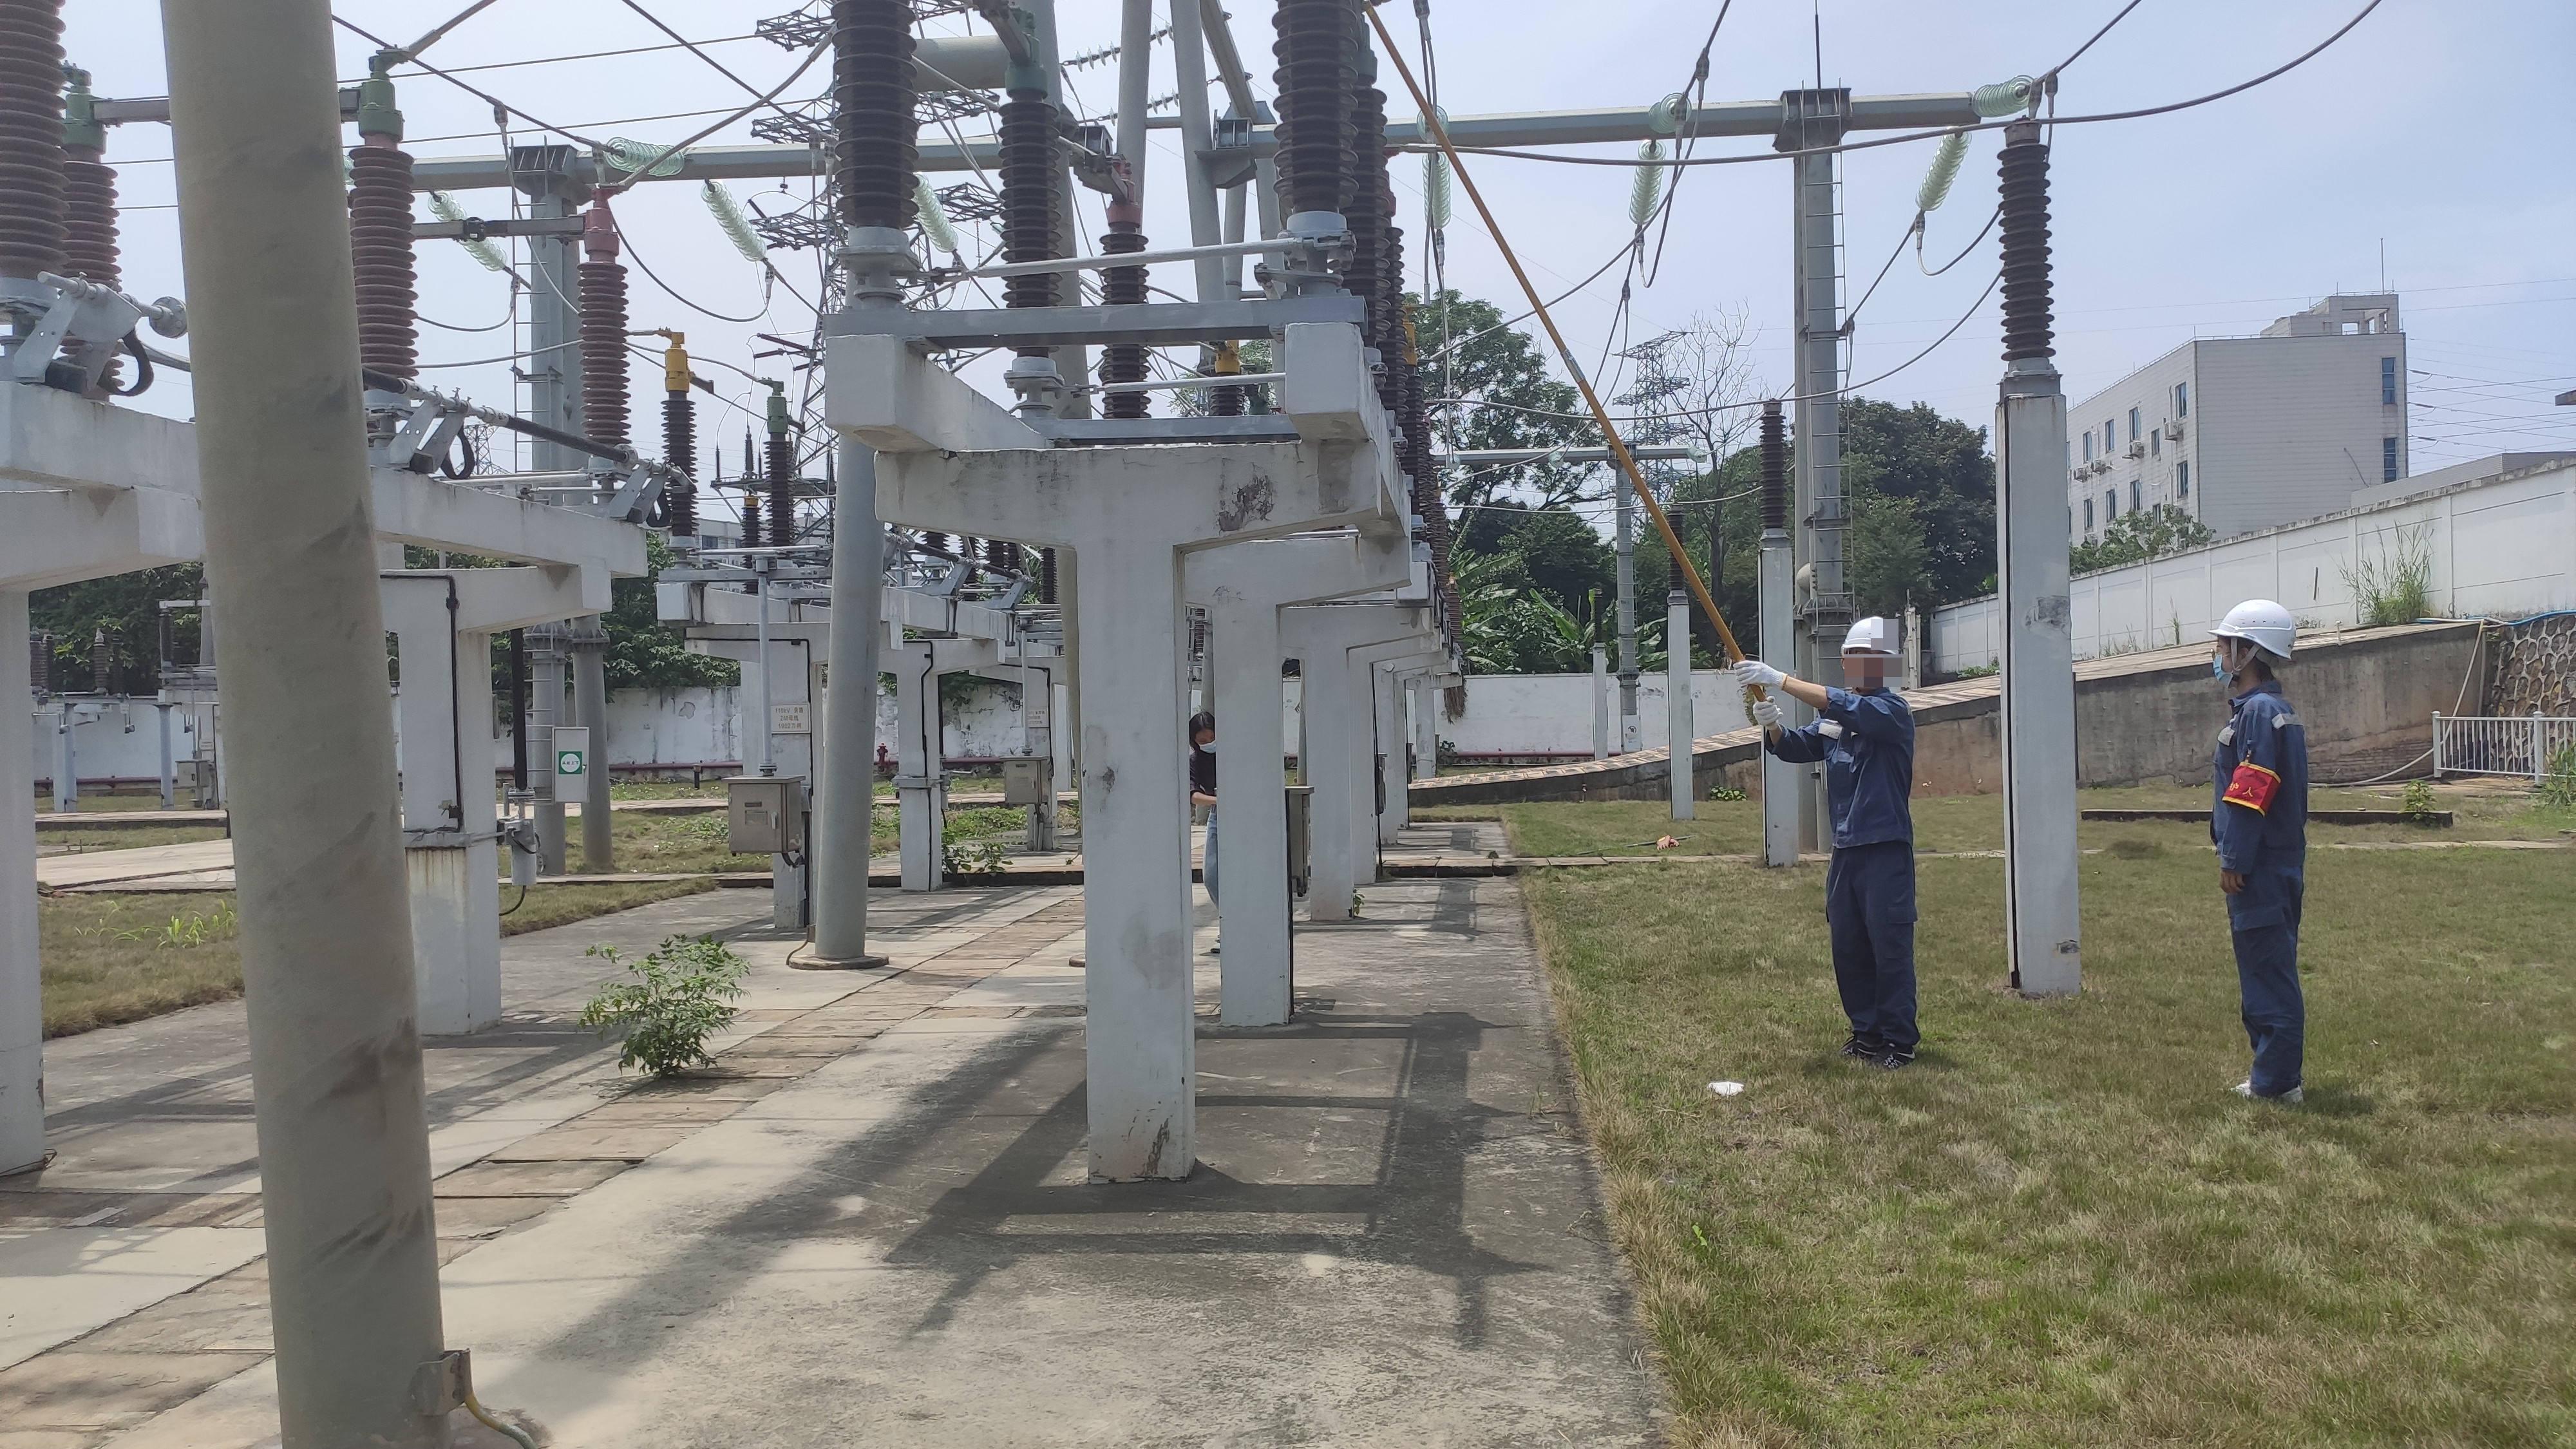badge: (2219, 760, 2278, 813)
downsuit: (1827, 851, 1923, 1046), (2226, 875, 2311, 1089)
halt: (2209, 598, 2300, 688), (1838, 615, 1906, 689)
hand: (2218, 869, 2246, 896)
inear: (2230, 636, 2259, 680)
operatingbar: (1360, 1, 1766, 701)
person: (1741, 612, 1928, 1062), (2202, 596, 2325, 1106), (1187, 711, 1224, 911)
upsuit: (1797, 682, 1922, 848), (2209, 687, 2313, 872)
wglove: (1732, 658, 1788, 695), (1750, 694, 1786, 733)
wrongtop: (1778, 671, 1853, 718)
